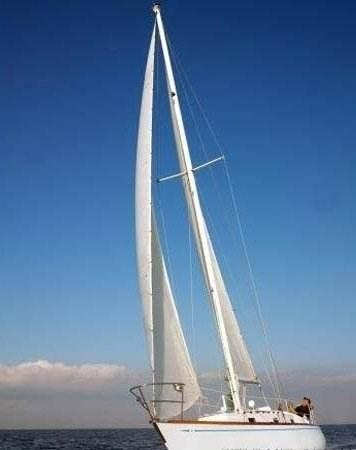fanchuan: (122, 1, 336, 450)
